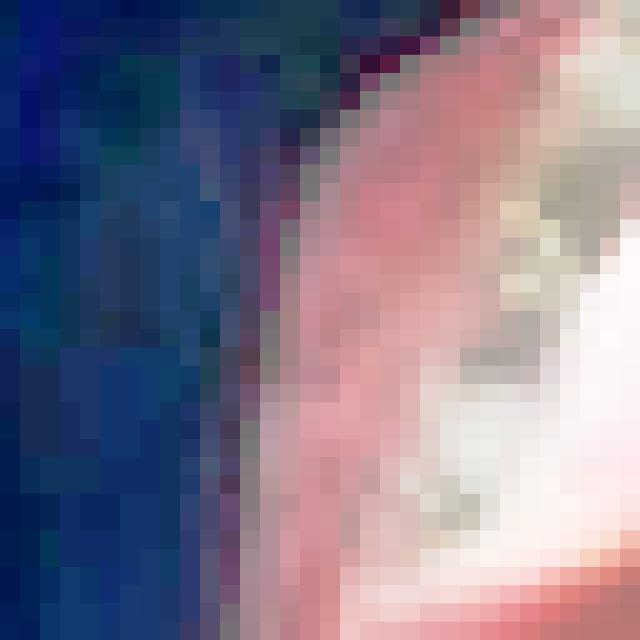arms: (540, 0, 640, 640)
